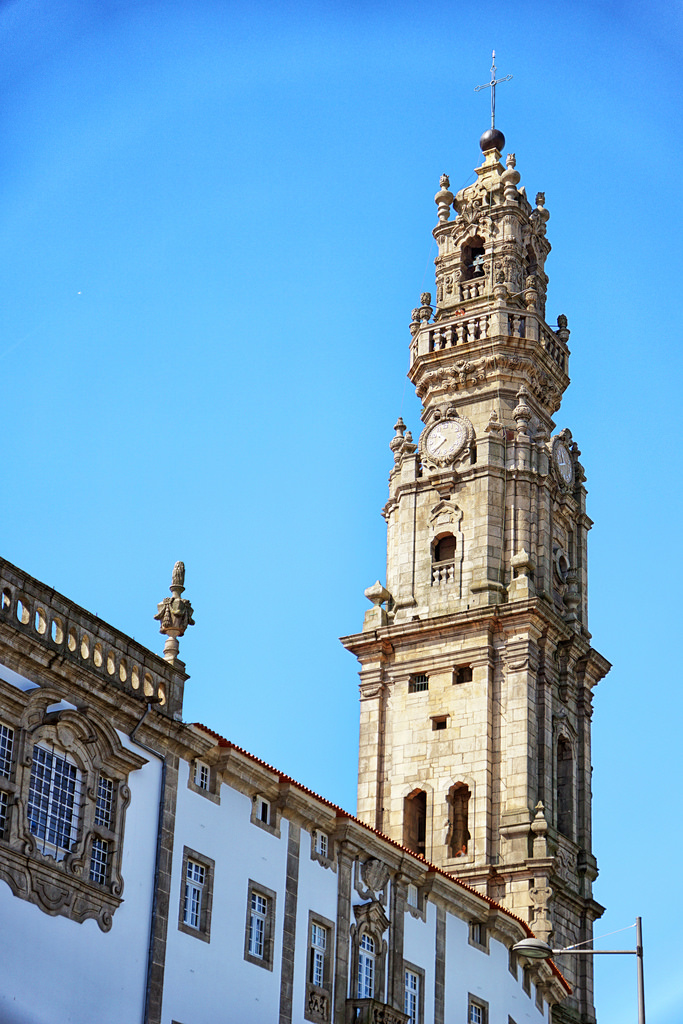clerigos: (337, 45, 615, 1023)
